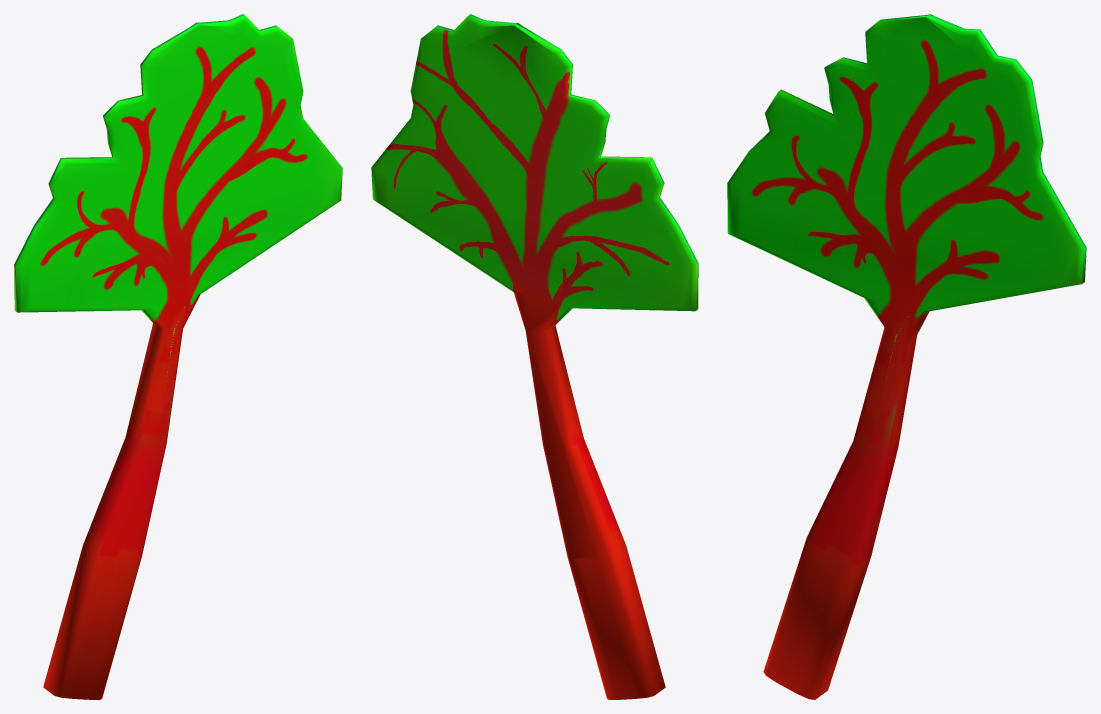
File: scene_rhabarber.gltf
3 views of the same model, side by side, from view 1: azimuth 30°, elevation 25°; view 2: azimuth 150°, elevation 25°; view 3: azimuth 330°, elevation 25° (orthographic). The views are drawn at different scales.
Visible parts, largest first — view 1: Rhubarb; view 2: Rhubarb; view 3: Rhubarb.
Boxes of the visible parts, <box> form: Rhubarb: <box>14,14,342,699</box>; Rhubarb: <box>371,14,698,699</box>; Rhubarb: <box>727,14,1086,699</box>.
Size of the model in its own units: 2.77 by 5.25 by 0.2552.
Materials: 1 (1 with a texture image).
